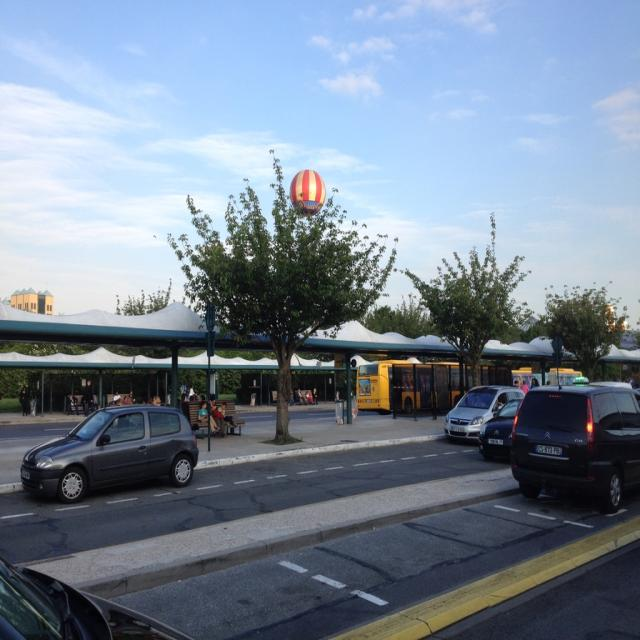car: (18, 399, 198, 498)
